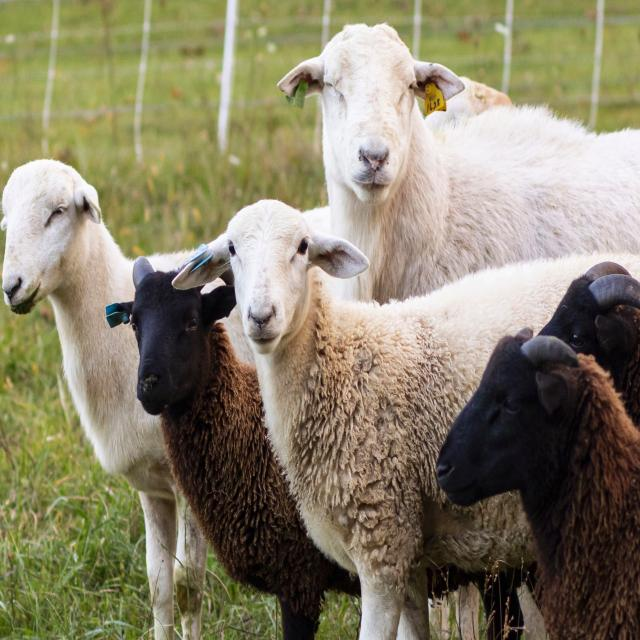sheep: (172, 199, 640, 638), (278, 24, 640, 304), (106, 257, 361, 640), (0, 159, 184, 637), (437, 328, 640, 640), (538, 262, 640, 424)
